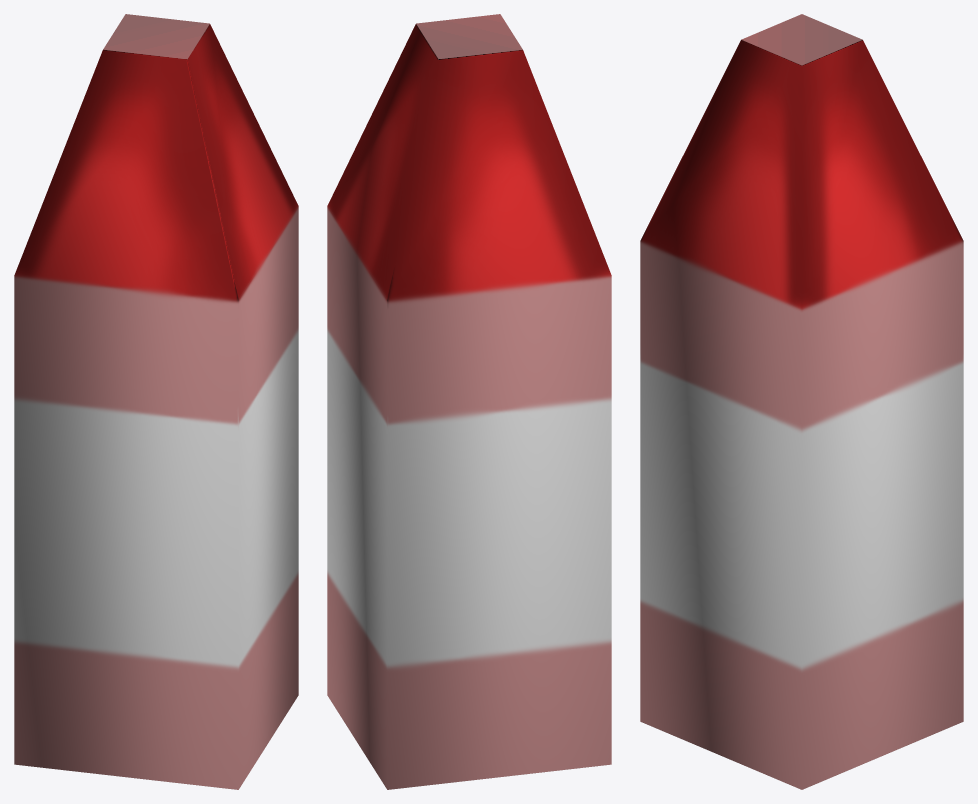
The model's file is daodang.FBX.
3 views of the same model, side by side, from view 1: azimuth 30°, elevation 25°; view 2: azimuth 150°, elevation 25°; view 3: azimuth 270°, elevation 25° (orthographic).
Parts seen in each view (by area): view 1: Cylinder001; view 2: Cylinder001; view 3: Cylinder001.
Part boxes in pixels (x1,y1,x2,y2): Cylinder001: (14,14,298,789); Cylinder001: (327,14,611,789); Cylinder001: (640,14,963,789).
Size of the model in its own units: 15.09 by 35.15 by 15.09.
